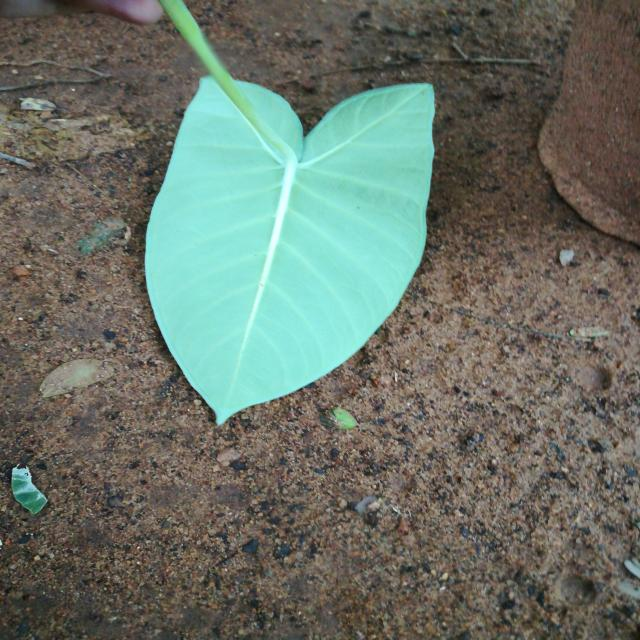taro: (145, 0, 435, 424)
